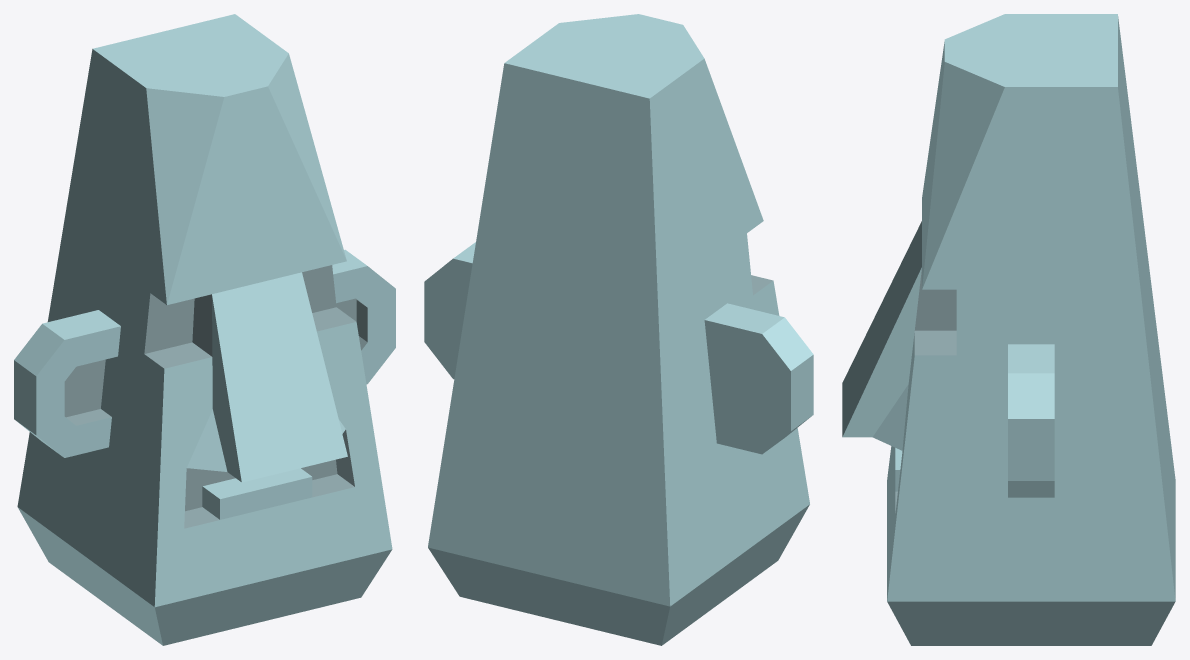
File: statue_head.dae
3 renders of one model, left to right at view 1: azimuth 30°, elevation 25°; view 2: azimuth 150°, elevation 25°; view 3: azimuth 270°, elevation 25°, orthographic. The views are drawn at different scales.
Parts seen in each view (by area): view 1: statue_head; view 2: statue_head; view 3: statue_head.
Part boxes in pixels (x1,y1,x2,y2): statue_head: (14,14,395,645); statue_head: (424,14,813,645); statue_head: (842,14,1175,645).
Bounding box in the file's own units: 0.726 × 1 × 0.5544.
